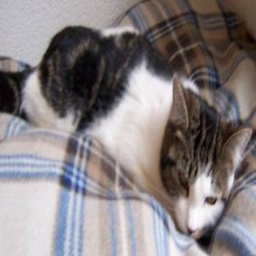cat: (21, 22, 253, 242)
